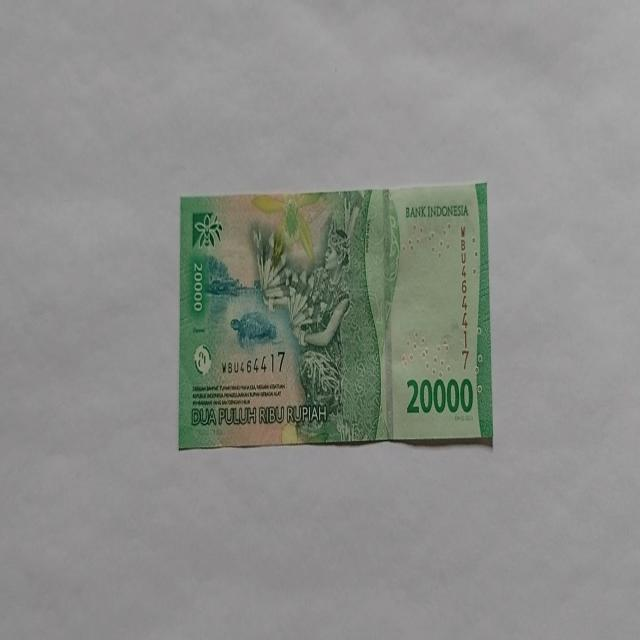dua puluh ribu rupiah: (178, 181, 493, 450)
